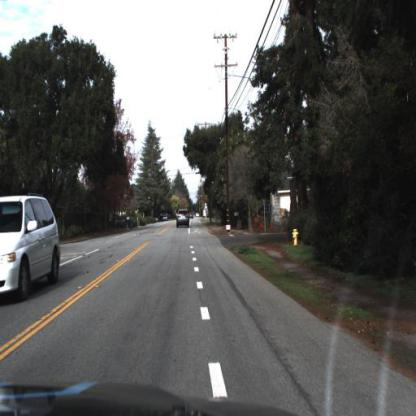car: (1, 196, 62, 306), (176, 208, 193, 231)
